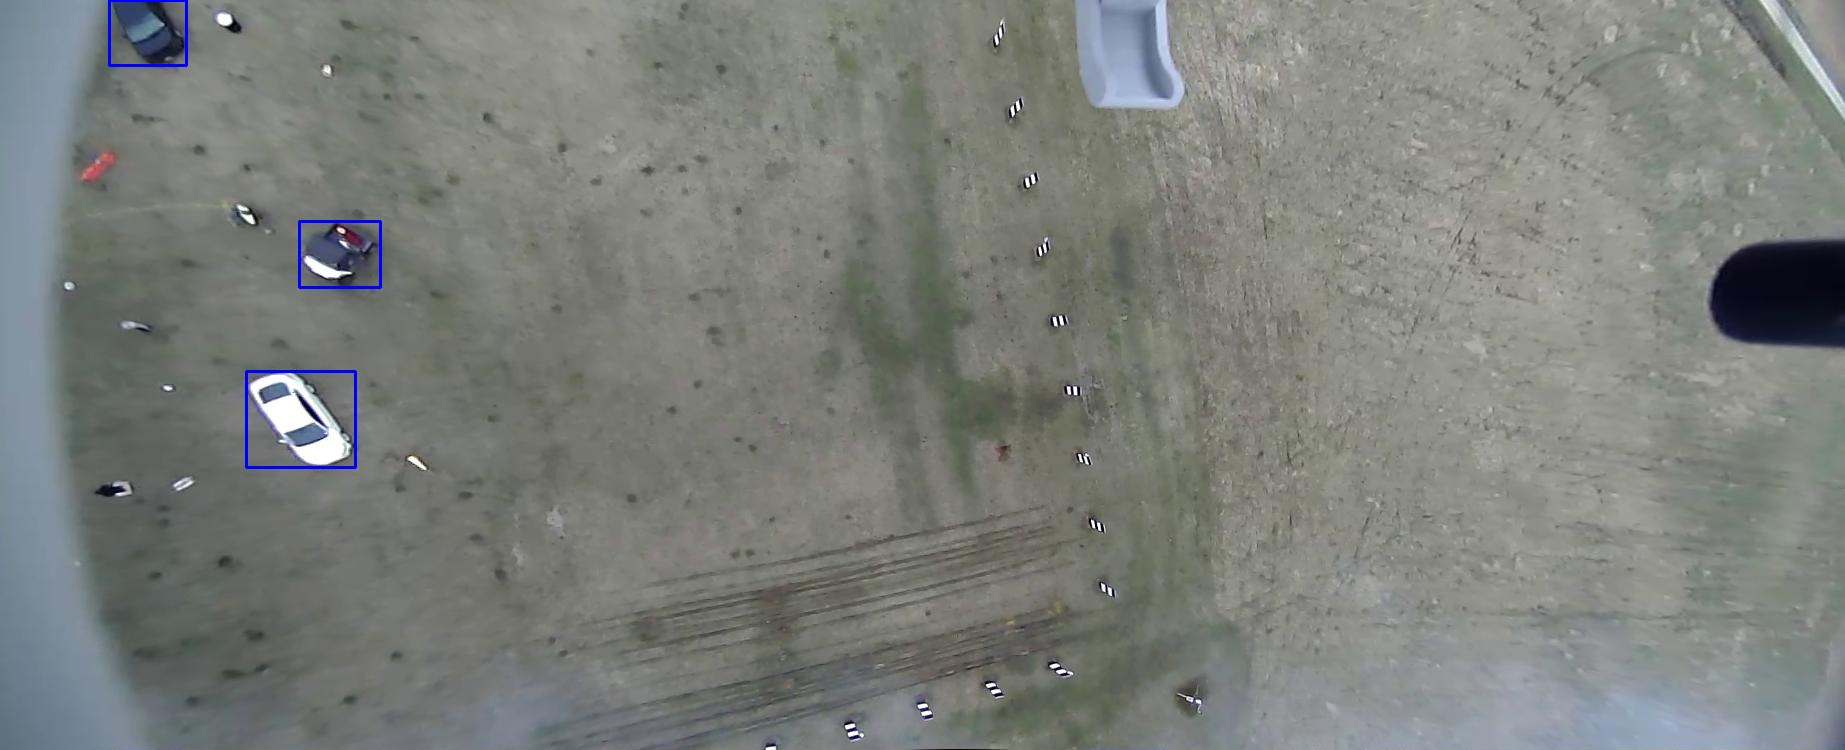vehicle: (371, 246, 467, 356), (221, 299, 287, 380), (0, 109, 65, 186)
